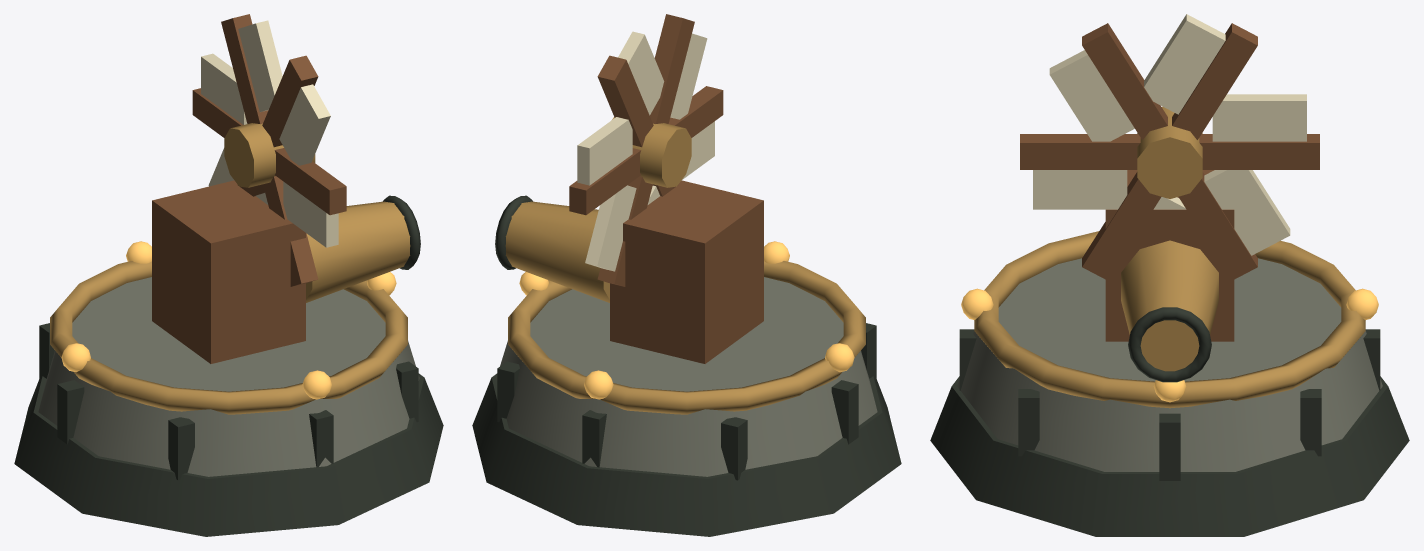
Rendered from tower_wind_windRotor.glb.
The picture shows the model from 3 angles, left to right: view 1: azimuth 30°, elevation 25°; view 2: azimuth 150°, elevation 25°; view 3: azimuth 270°, elevation 25°; orthographic projection. The views are drawn at different scales.
Visible parts, largest first — view 1: stone_1, foot_0, mill_15, rim_2, air_nozzle_29, hub_16, sail_22, spar_23, sail_20, spar_21, sail_24, sail_18 (+11 smaller); view 2: stone_1, foot_0, mill_15, rim_2, air_nozzle_29, hub_16, spar_21, sail_18, spar_19, sail_28, spar_17, sail_20 (+12 smaller); view 3: stone_1, foot_0, rim_2, air_nozzle_29, mill_15, sail_18, sail_20, hub_16, spar_23, sail_28, sail_22, spar_21 (+13 smaller).
Boxes of the visible parts, x1=… form: stone_1: x1=38, y1=277, x2=419, y2=476; foot_0: x1=14, y1=373, x2=443, y2=536; mill_15: x1=152, y1=180, x2=305, y2=363; rim_2: x1=50, y1=261, x2=407, y2=414; air_nozzle_29: x1=306, y1=201, x2=410, y2=302; hub_16: x1=224, y1=123, x2=315, y2=187; sail_22: x1=279, y1=84, x2=330, y2=165; spar_23: x1=274, y1=148, x2=346, y2=215; sail_20: x1=238, y1=20, x2=282, y2=112; spar_21: x1=262, y1=55, x2=318, y2=147; sail_24: x1=283, y1=181, x2=338, y2=247; sail_18: x1=201, y1=53, x2=247, y2=124; stone_1: x1=496, y1=277, x2=877, y2=476; foot_0: x1=472, y1=373, x2=901, y2=536; mill_15: x1=610, y1=180, x2=763, y2=363; rim_2: x1=508, y1=261, x2=865, y2=414; air_nozzle_29: x1=505, y1=201, x2=609, y2=302; hub_16: x1=612, y1=117, x2=691, y2=187; spar_21: x1=650, y1=14, x2=694, y2=123; sail_18: x1=577, y1=117, x2=632, y2=185; spar_19: x1=597, y1=55, x2=653, y2=147; sail_28: x1=585, y1=185, x2=636, y2=271; spar_17: x1=569, y1=148, x2=641, y2=215; sail_20: x1=618, y1=31, x2=664, y2=115; stone_1: x1=957, y1=258, x2=1382, y2=471; foot_0: x1=930, y1=376, x2=1409, y2=536; rim_2: x1=974, y1=231, x2=1365, y2=408; air_nozzle_29: x1=1121, y1=240, x2=1218, y2=371; mill_15: x1=1105, y1=170, x2=1234, y2=341; sail_18: x1=1212, y1=94, x2=1306, y2=141; sail_20: x1=1144, y1=14, x2=1225, y2=114; hub_16: x1=1137, y1=106, x2=1202, y2=198; spar_23: x1=1020, y1=134, x2=1140, y2=169; sail_28: x1=1204, y1=170, x2=1290, y2=255; sail_22: x1=1049, y1=50, x2=1134, y2=141; spar_21: x1=1082, y1=23, x2=1167, y2=139.
Bounding box in the file's own units: 0.5326 × 0.5736 × 0.56.
